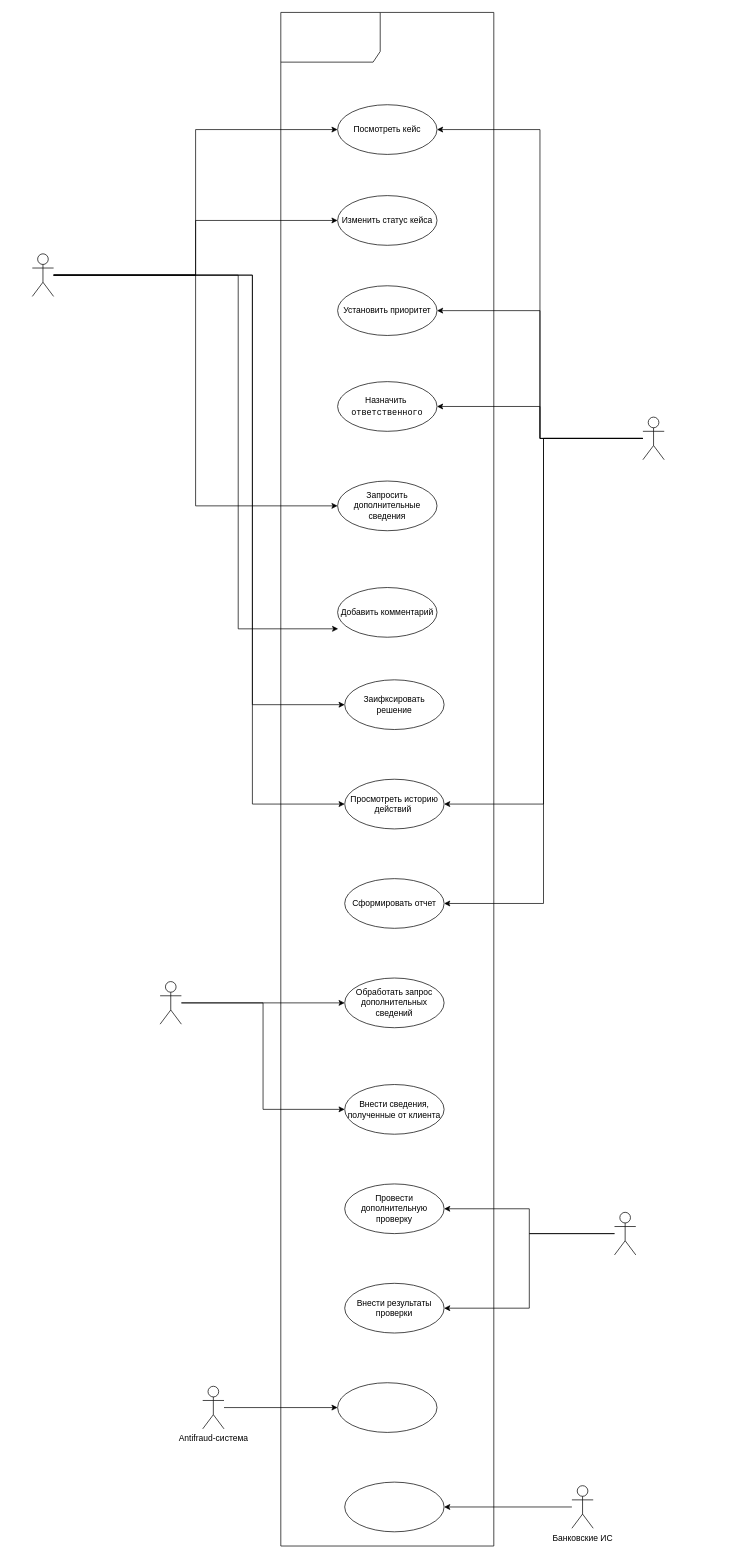
The diagram is 747 pixels wide and 1558 high, and some of its shapes have lost their labels. Each missing label, with the box of its shape:
Fraud-аналитик: (32, 253, 54, 296)
Автоматически создать кейс: (337, 1382, 437, 1432)
ИС управления расследованиями подозрительных банковских операций: (280, 12, 494, 1546)
Оператор поддержки: (159, 981, 181, 1024)
Получить данные по клиенту и операциям: (344, 1481, 444, 1532)
Руководитель fraud-подразделения: (642, 416, 664, 460)
Служба безопасности: (614, 1212, 636, 1255)
